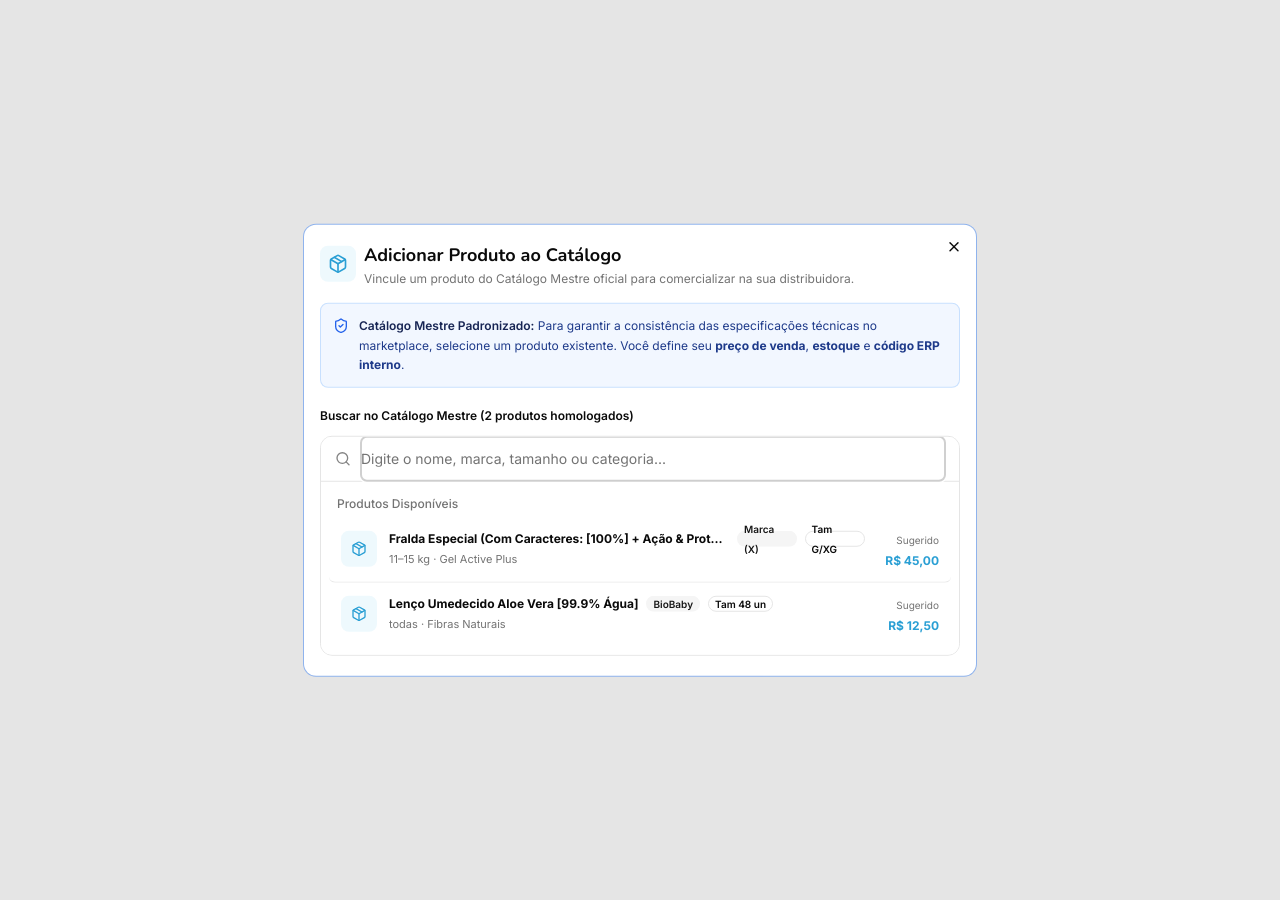
Test: Milestone 3 Adversarial Stress Testing › 2. AddProductDialog Adversarial Suite › rejects negative stock quantities
Click the option with test id "master-item-m-special-1". click: click(359, 548)
box: [329,517,951,582]
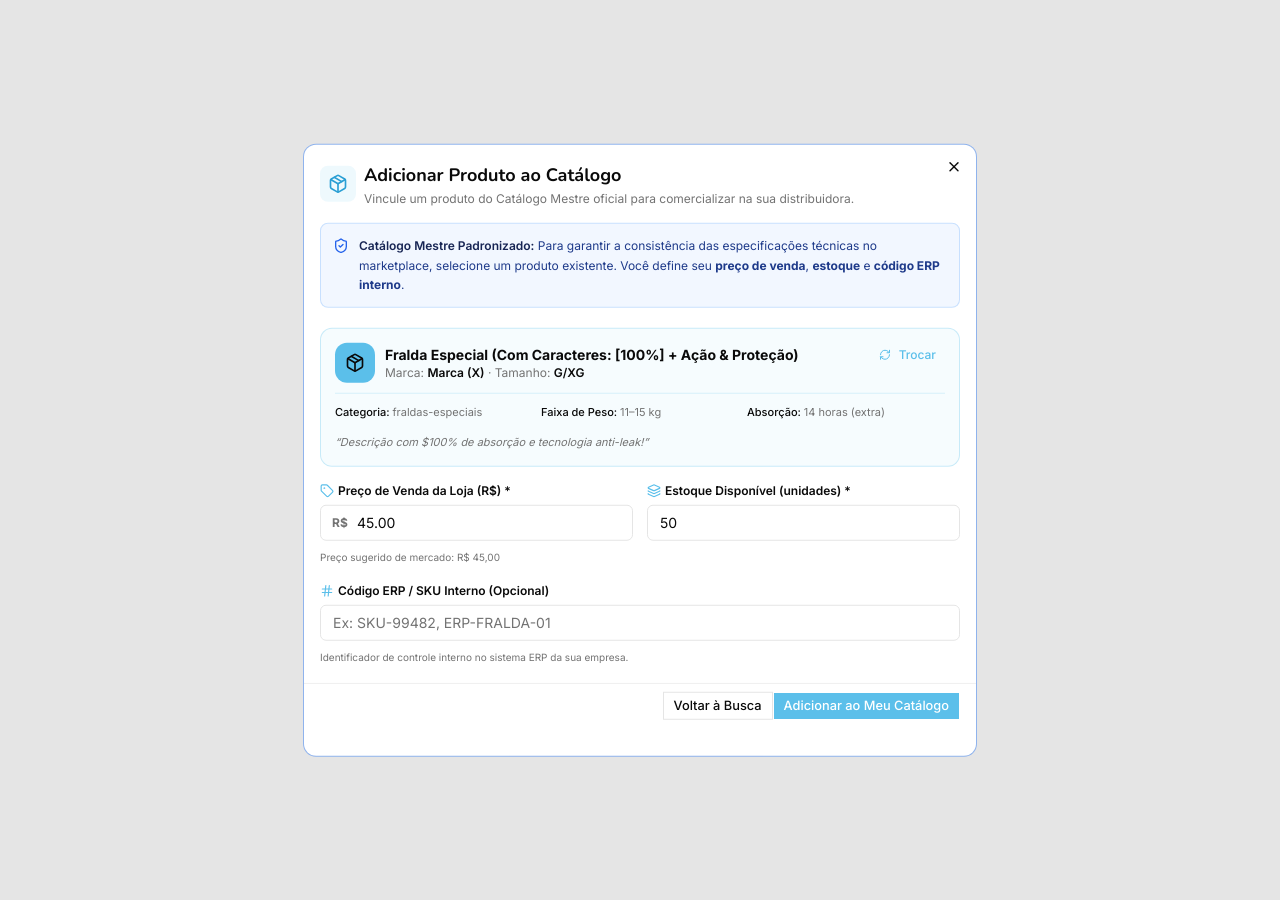
Replace the text in the number field with test id "stock-quantity-input" with "-10". click: (804, 522)
box: [647,504,960,540]
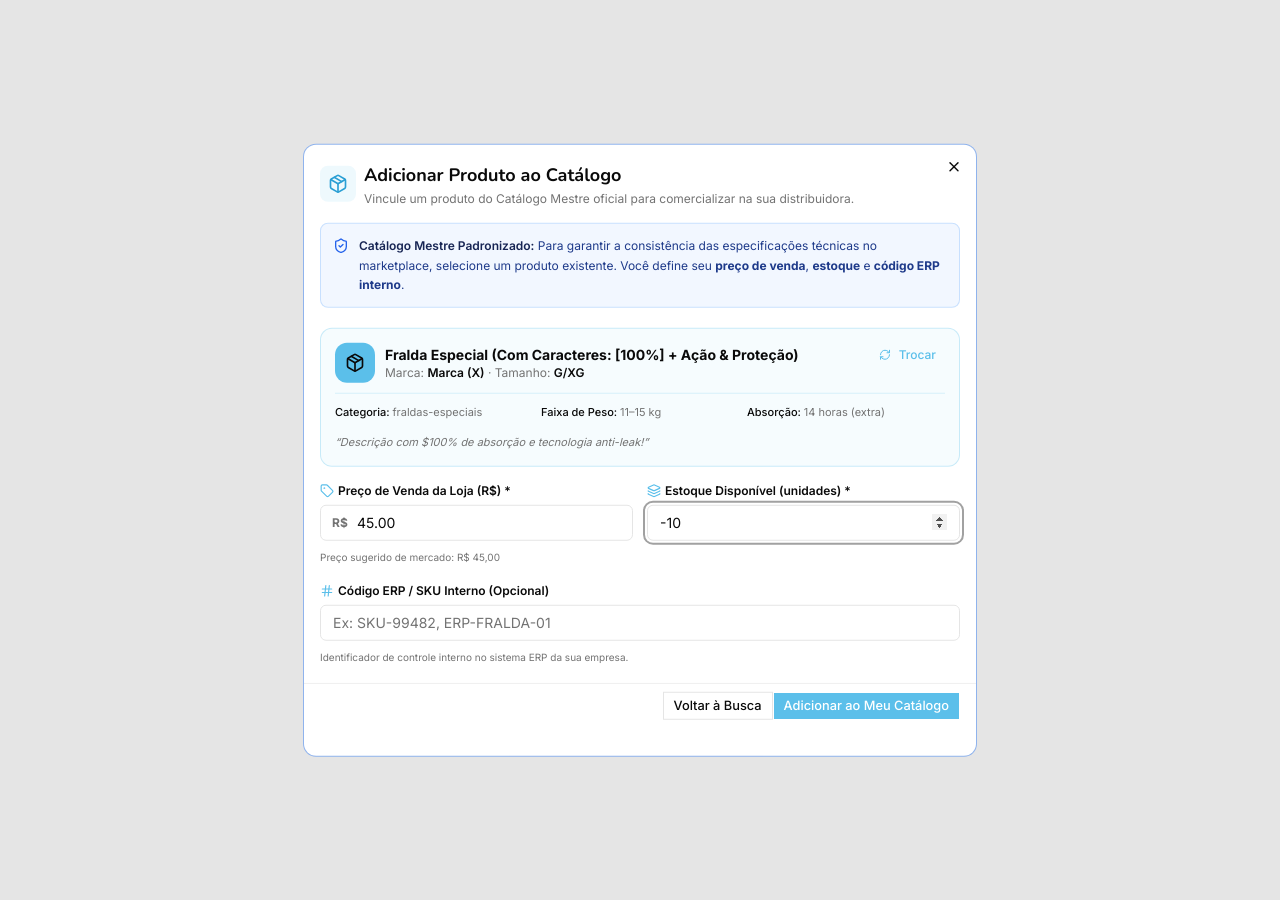
Click the button with test id "submit-add-product-btn". click: click(866, 705)
box: [773,691,960,719]
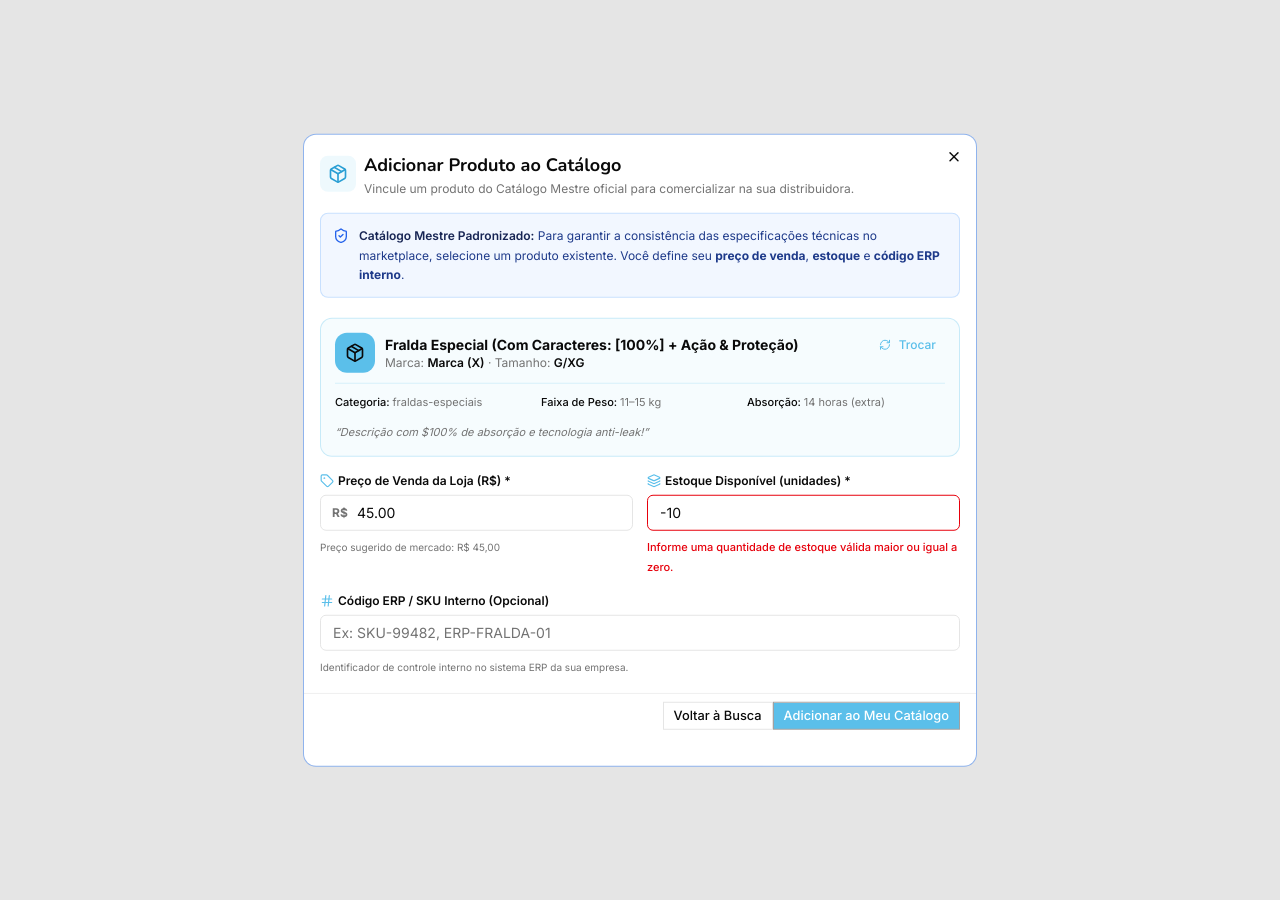
Check: the text "Informe uma quantidade de estoque válida maior ou igual a zero." is shown, box [647,536,960,576]
